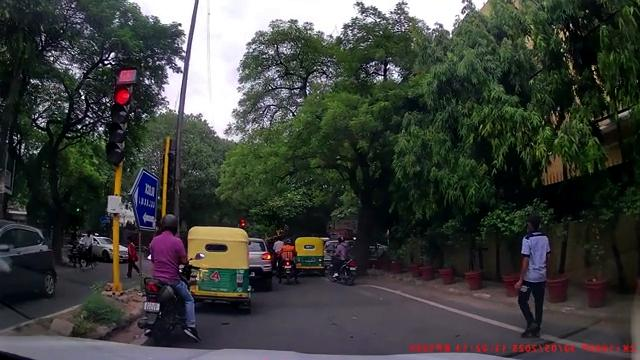motorcycle_with_helmet: (139, 213, 201, 345), (328, 234, 359, 286)
